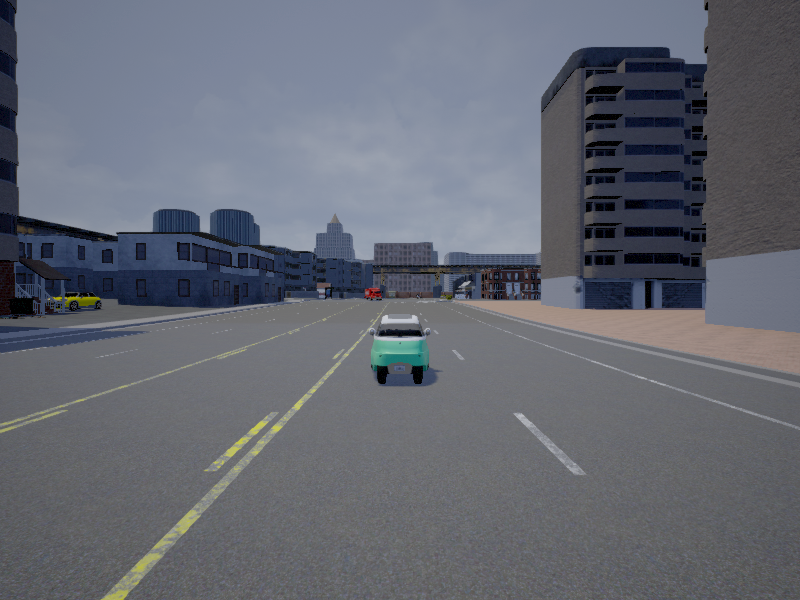Benign: (369, 313, 429, 385), (53, 291, 102, 310), (362, 288, 382, 302)
